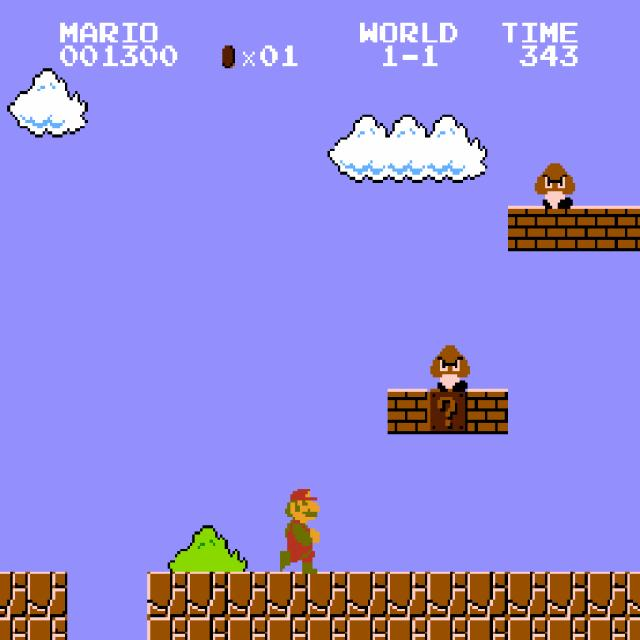big_mario: (277, 480, 320, 574)
brick_block: (387, 389, 428, 434), (467, 389, 508, 434), (507, 206, 548, 251), (547, 206, 588, 251), (587, 206, 628, 251), (627, 206, 640, 251)
goomba: (427, 343, 470, 391), (533, 160, 575, 208)
mystery_block: (427, 389, 468, 434)
undestructible_block: (27, 572, 68, 617), (147, 572, 188, 617), (187, 572, 228, 617), (227, 572, 268, 617), (267, 572, 308, 617), (307, 572, 348, 617), (347, 572, 388, 617), (387, 572, 428, 617), (427, 572, 468, 617), (467, 572, 508, 617), (507, 572, 548, 617), (547, 572, 588, 617), (587, 572, 628, 617), (0, 572, 28, 617), (27, 617, 68, 640), (147, 617, 188, 640), (187, 617, 228, 640), (227, 617, 268, 640), (267, 617, 308, 640), (307, 617, 348, 640), (347, 617, 388, 640), (387, 617, 428, 640), (427, 617, 468, 640), (467, 617, 508, 640), (507, 617, 548, 640), (547, 617, 588, 640), (587, 617, 628, 640), (0, 617, 28, 640), (627, 572, 640, 617), (627, 617, 640, 640)
